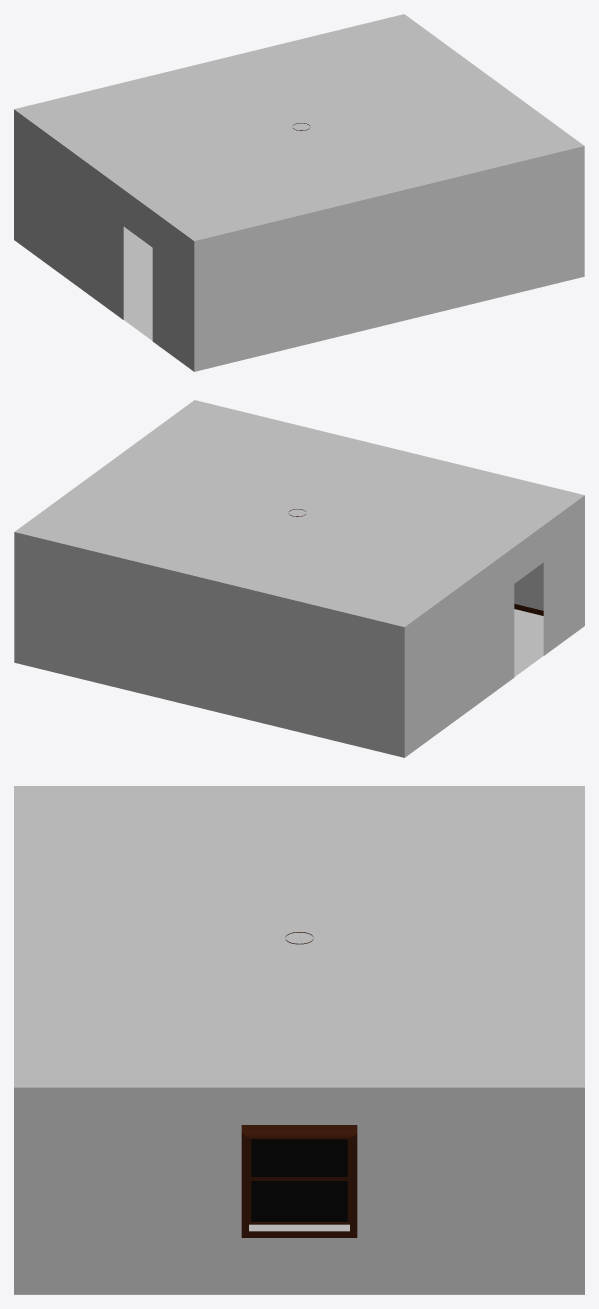
File: 404-room.fbx
3 renders of one model, top to bottom at view 1: azimuth 30°, elevation 25°; view 2: azimuth 150°, elevation 25°; view 3: azimuth 270°, elevation 25°, orthographic. The views are drawn at different scales.
Visible parts, largest first — view 1: room007; view 2: room007; view 3: room007.
Boxes of the visible parts, left/top/right/bottom form: room007: left=14, top=14, right=584, bottom=371; room007: left=14, top=400, right=584, bottom=757; room007: left=14, top=786, right=584, bottom=1294.
Size of the model in its own units: 10.26 by 3.21 by 8.
